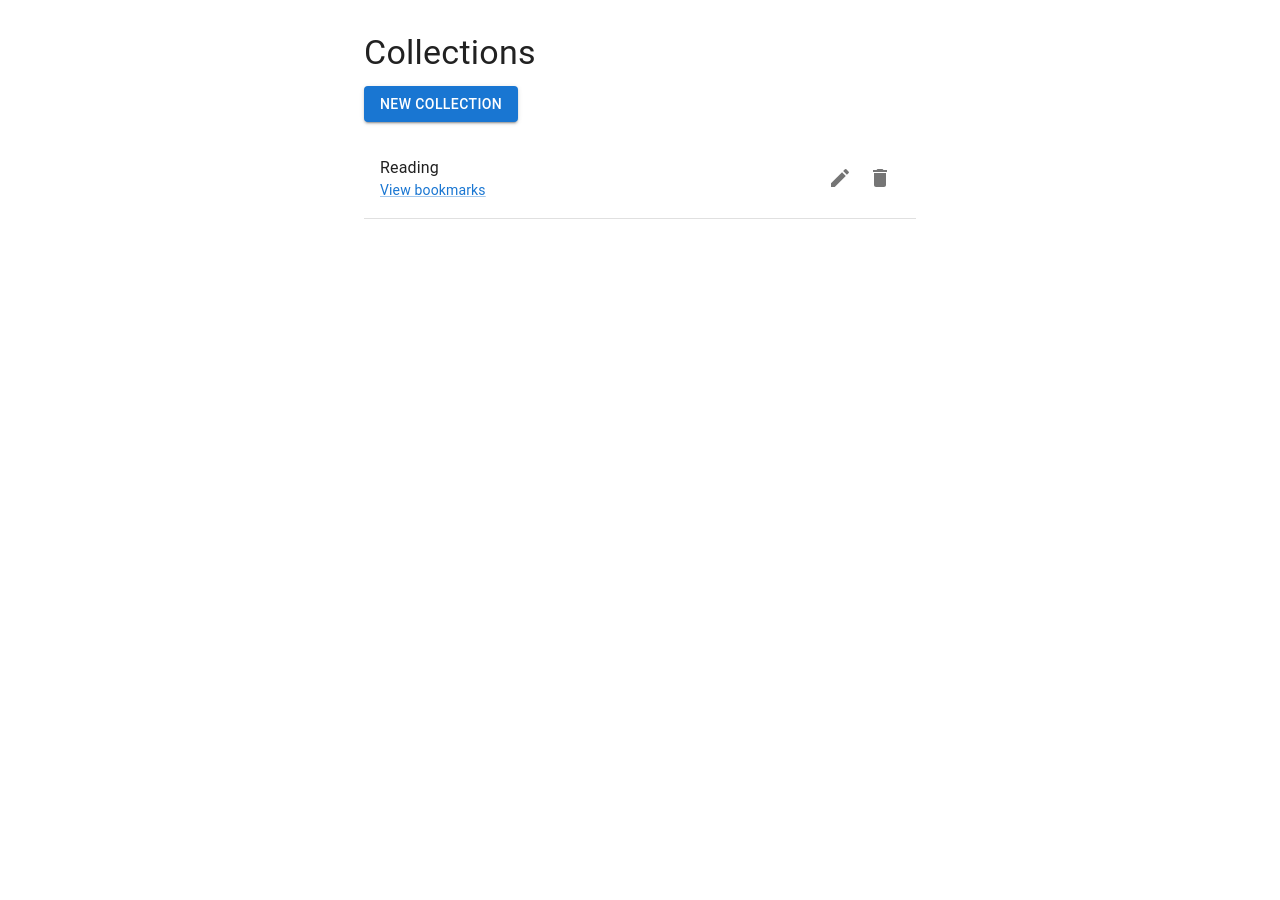
it: Collections — edit › edits an existing collection
Expected: the text "Reading" is shown, [380,158,439,177]
Click the button named "edit reading": (840, 178) [820,158,860,198]
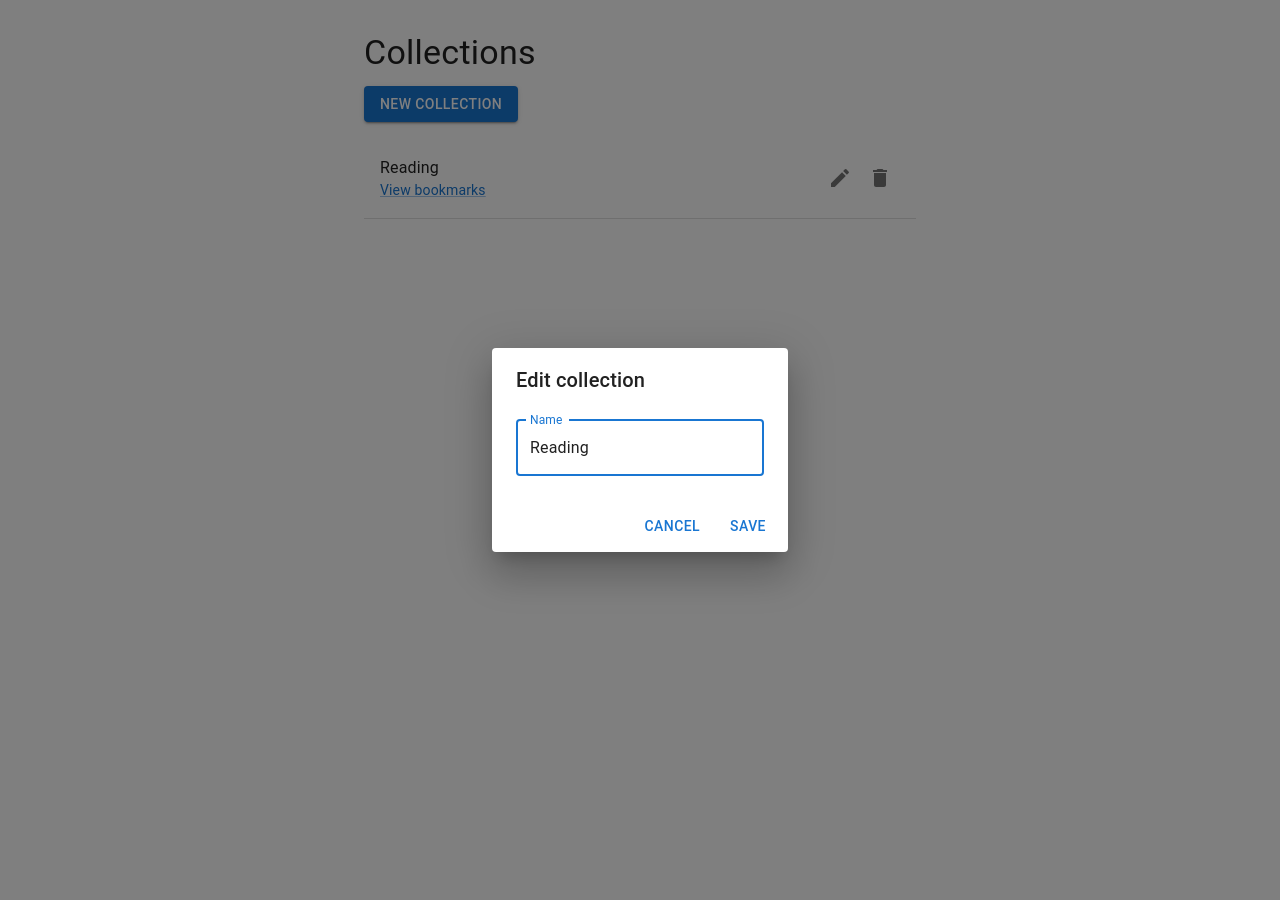
Replace the text in the field labelled "Name" with "Renamed": (640, 448) [516,420,764,476]
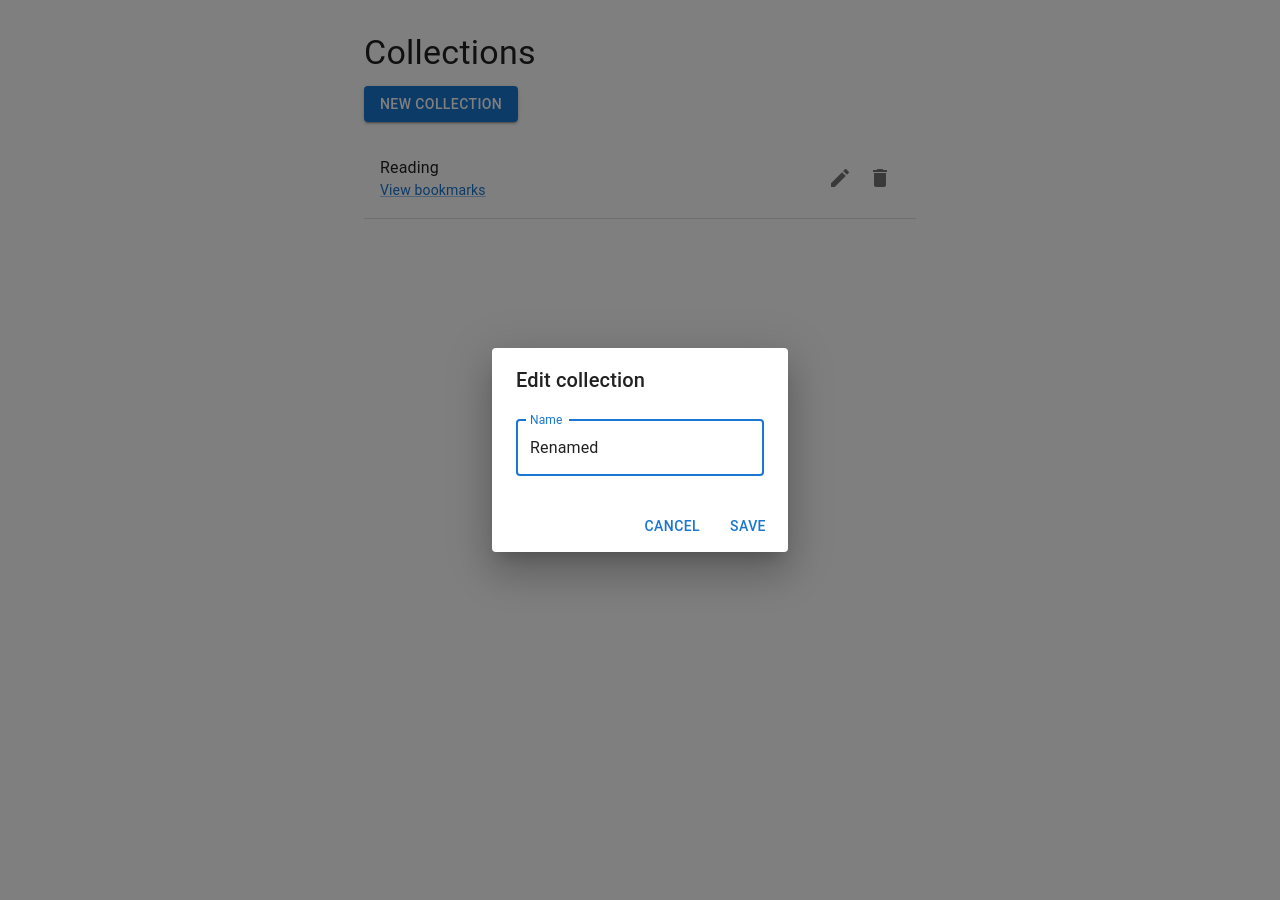
Click the button "Save": (748, 526) [716,508,780,544]
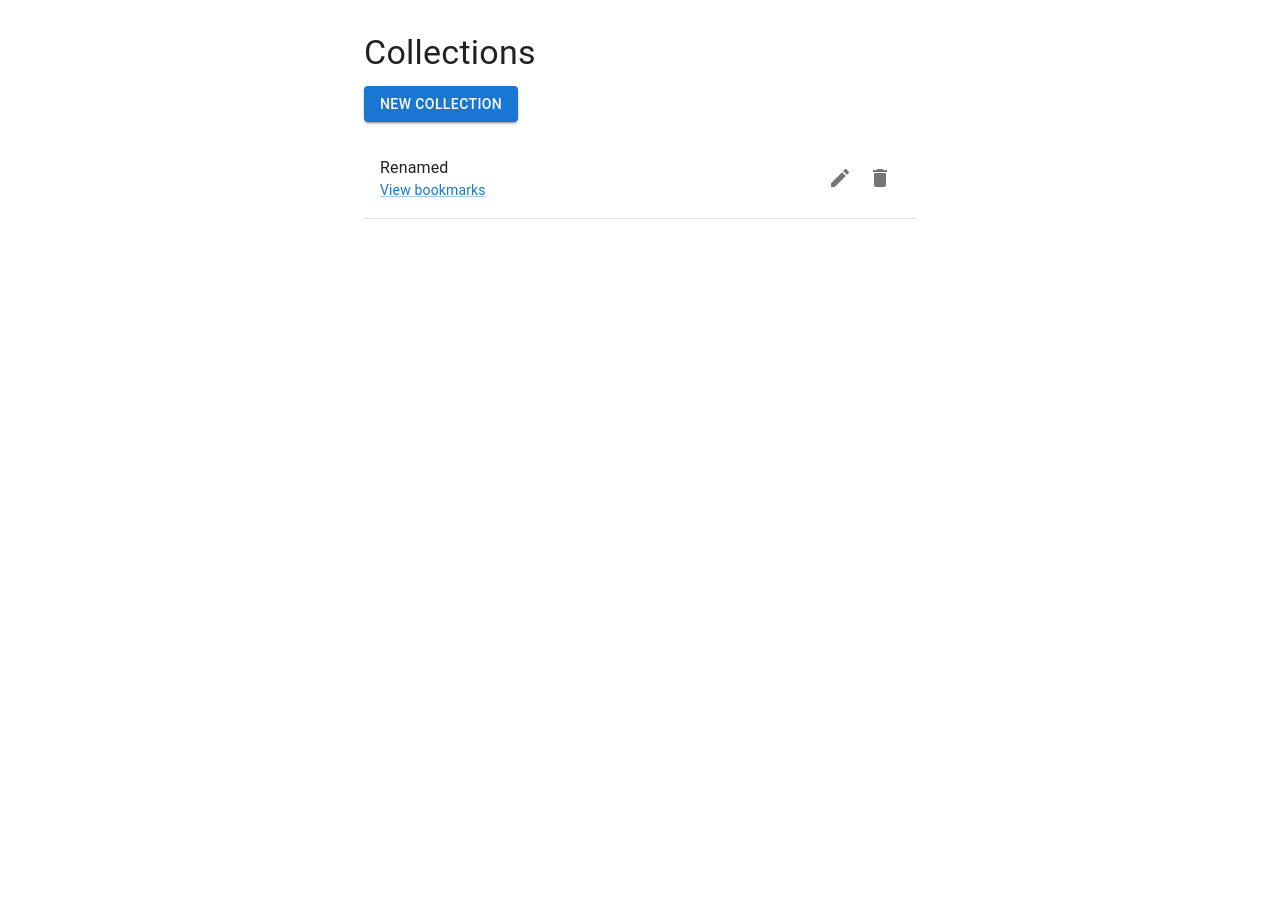
Expected: the text "Renamed" is shown, [380,158,448,177]
